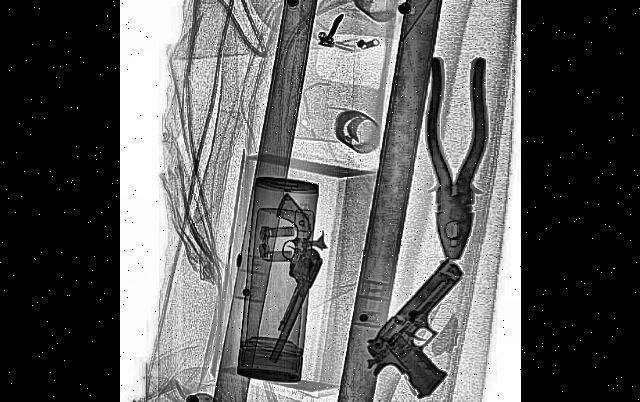Gun: (360, 245, 485, 402), (234, 188, 328, 366)
Pliers: (424, 52, 490, 262)
